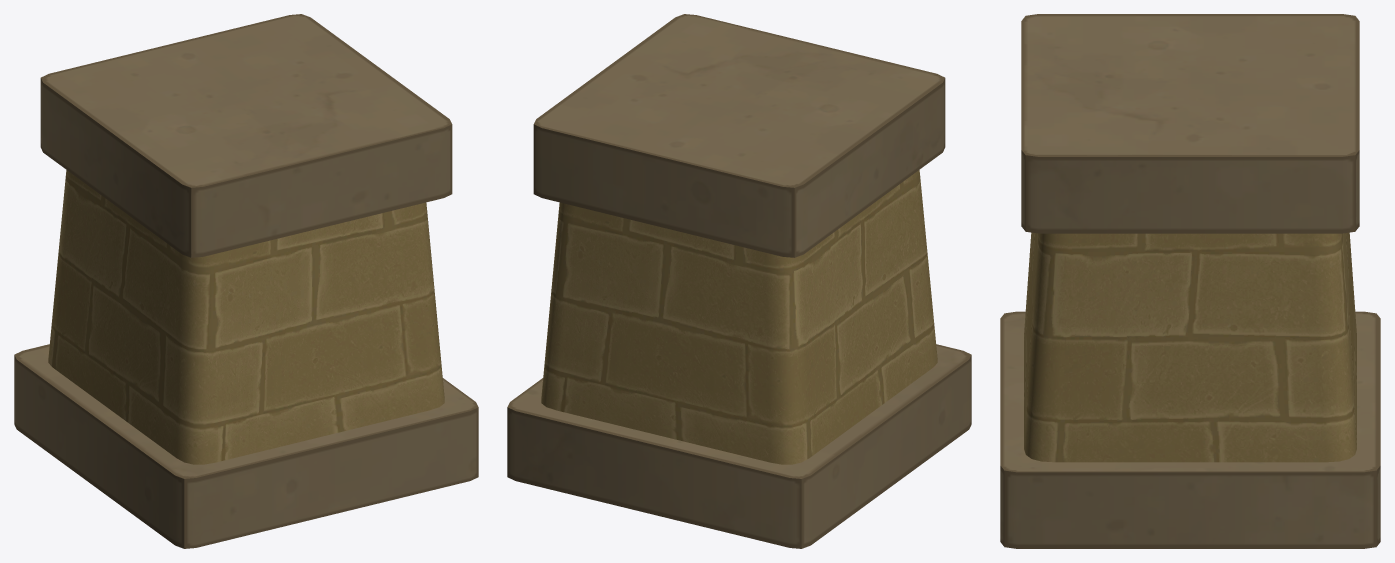
The model's file is SM_building_foundation_02.glb.
The picture shows the model from 3 angles, left to right: view 1: azimuth 30°, elevation 25°; view 2: azimuth 150°, elevation 25°; view 3: azimuth 270°, elevation 25°; orthographic projection. The views are drawn at different scales.
Visible parts, largest first — view 1: SM_building_foundation_02; view 2: SM_building_foundation_02; view 3: SM_building_foundation_02.
Boxes of the visible parts, x1,y1,x2,y2 form: SM_building_foundation_02: (14, 14, 478, 548); SM_building_foundation_02: (507, 14, 971, 548); SM_building_foundation_02: (1000, 14, 1380, 548).
Bounding box in the file's own units: 0.9 × 1 × 0.9.
Materials: 2 (2 with a texture image).
